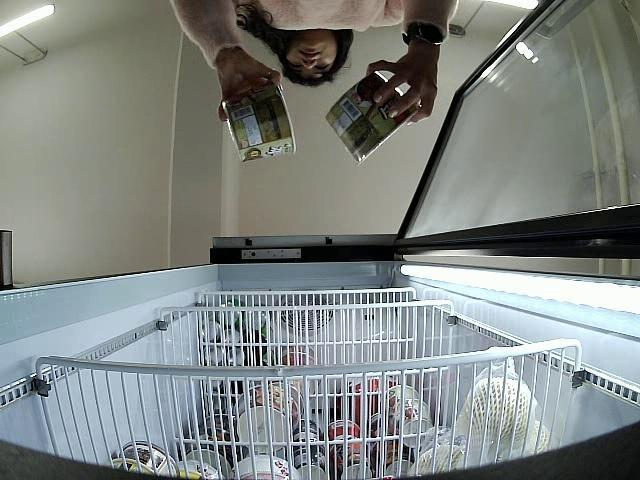03_chapagetti_L: (326, 66, 421, 162), (222, 77, 298, 166)
